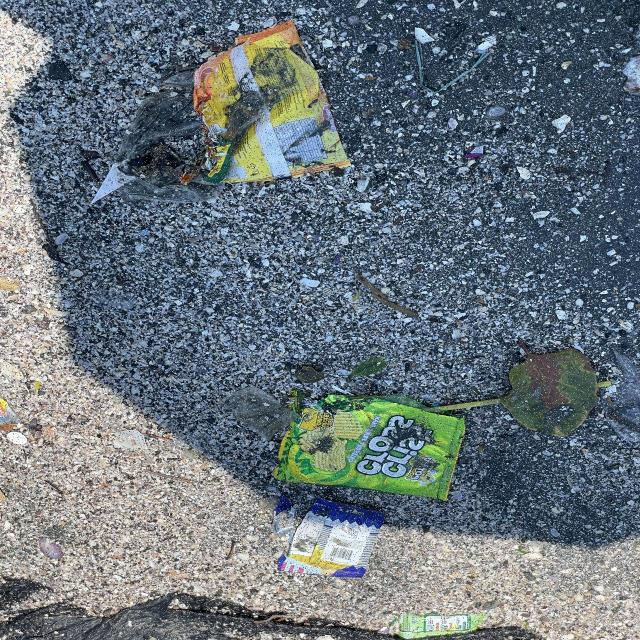plastic_waste: (193, 20, 357, 186), (274, 396, 469, 503), (278, 498, 386, 580), (397, 613, 491, 640)
